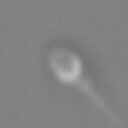normal: (76, 78, 118, 128)
